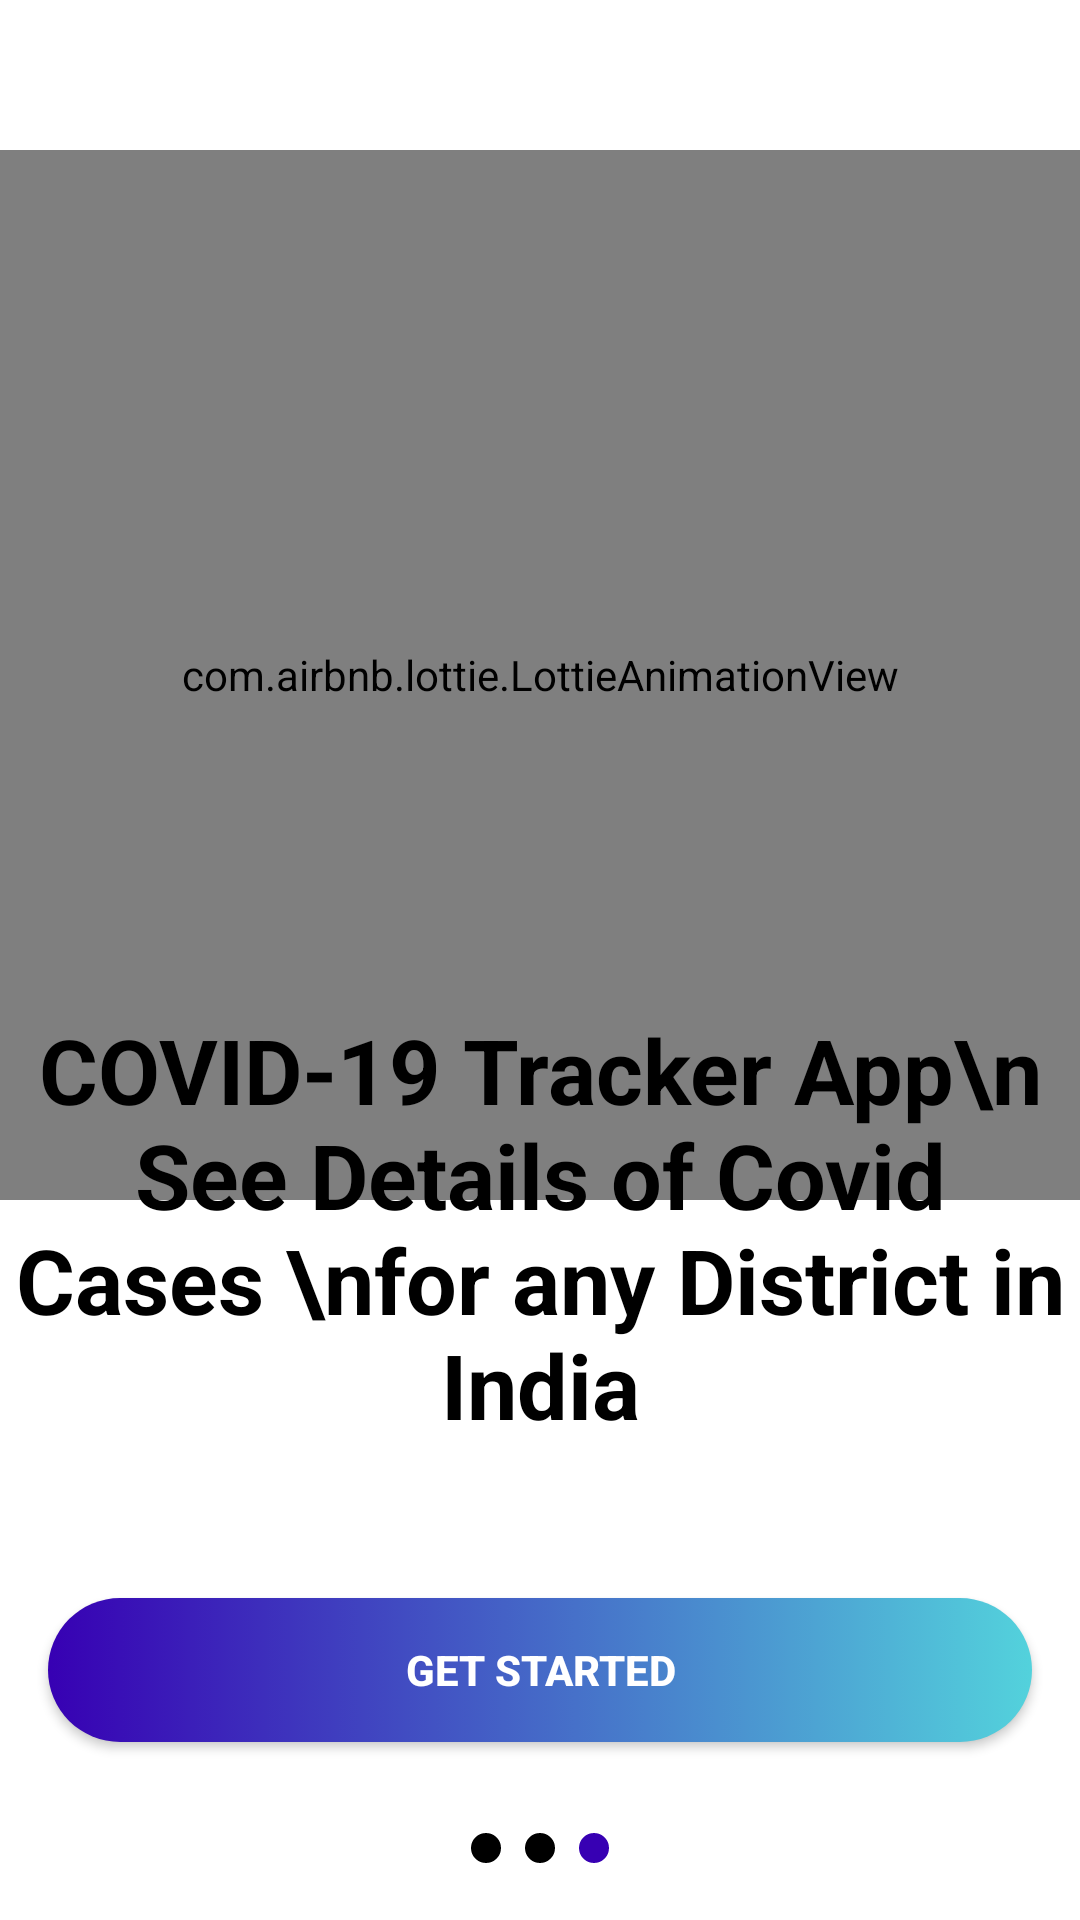

Screen size 1080 x 1920. Icon name, then its center in pixels as point (x, y):
bullet point: point (486, 1848), point (540, 1848), point (594, 1848)
